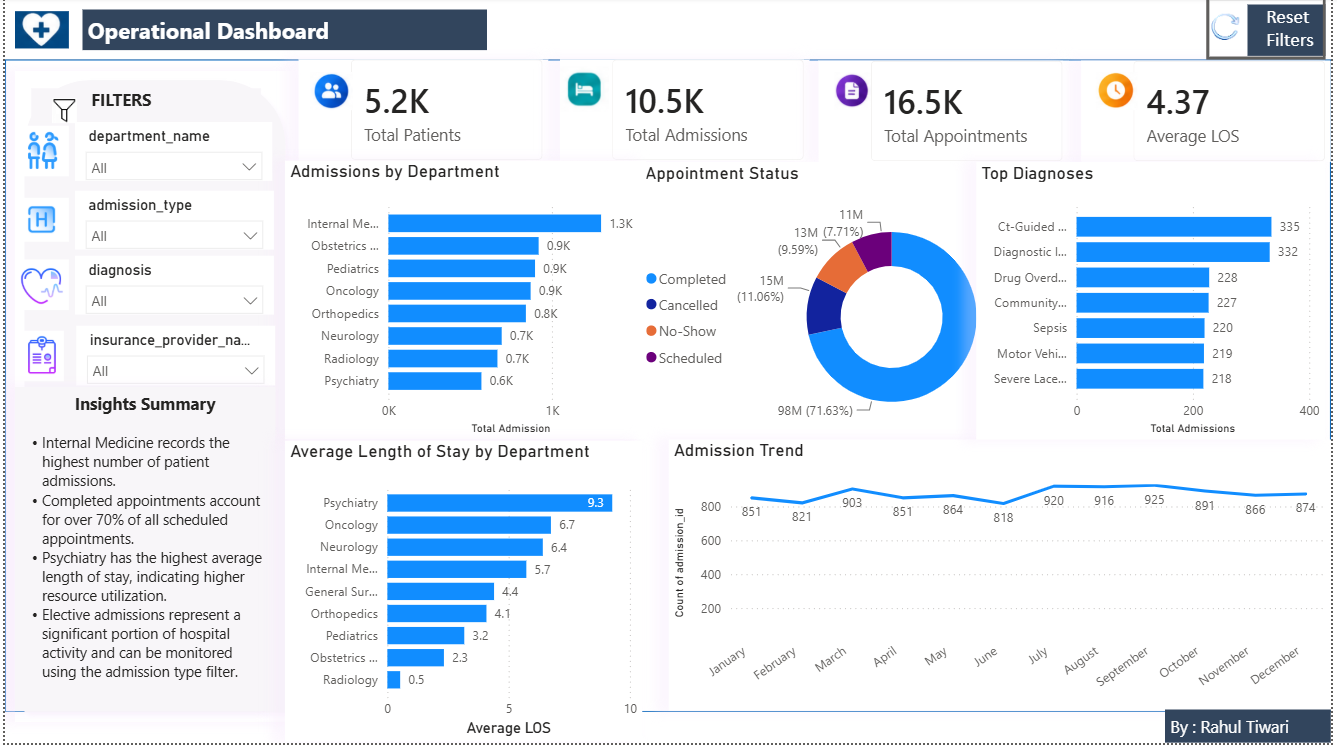

This screenshot's page, from the dashboard's own definition file:
{"tool":"powerbi","page":{"name":"Operational","canvas":[1280,720],"ordinal":0},"visuals":[{"type":"shape","box":[0,60.7,1279.8,629.8],"z":0},{"type":"cardVisual","fields":{"Data":["Sum(mart vw_hospital_overview.total_patients)"]},"box":[283.3,60.7,240.5,97.6],"z":1000},{"type":"cardVisual","fields":{"Data":["Sum(mart vw_hospital_overview.total_admissions)"]},"box":[535.7,60.7,240.5,97.6],"z":2000},{"type":"cardVisual","fields":{"Data":["Sum(mart vw_hospital_overview.total_appointments)"]},"box":[785.7,61.9,240.5,97.6],"z":3000},{"type":"donutChart","title":"Appointment Status","fields":{"Category":["mart fact_appointments.status"],"Y":["Sum(mart fact_appointments.appointment_id)"]},"box":[612.9,159.3,398.1,269],"z":3500},{"type":"cardVisual","fields":{"Data":["mart vw_hospital_overview.Average LOS"]},"box":[1039.3,61.9,240.5,97.6],"z":4000},{"type":"lineChart","title":"Admission Trend","fields":{"Category":["mart fact_admissions.admission_date.Variation.Date Hierarchy.Month"],"Y":["CountNonNull(mart fact_admissions.admission_id)"]},"box":[640.6,427.1,639.4,261.8],"z":5000},{"type":"shape","box":[10,70.7,270.2,628.6],"z":8000},{"type":"clusteredBarChart","title":"Admissions by Department","fields":{"Category":["mart dim_departments.department_name"],"Y":["CountNonNull(mart fact_admissions.admission_id)"]},"box":[270.2,158,348.7,269],"z":8500},{"type":"textbox","box":[25,88.1,221.4,32.1],"z":9000},{"type":"slicer","fields":{"Values":["mart fact_admissions.admission_type"]},"box":[67.9,186.9,191.7,57.1],"z":10000},{"type":"slicer","fields":{"Values":["mart dim_departments.department_name"]},"box":[67.9,120.2,190.5,57.1],"z":11000},{"type":"slicer","fields":{"Values":["mart vw_admission_analysis.diagnosis"]},"box":[67.9,250,191.7,57.1],"z":12000},{"type":"slicer","fields":{"Values":["mart vw_insurance_summary.insurance_provider_name"]},"box":[68.8,317.3,191.8,57.9],"z":13000},{"type":"image","box":[9.5,123.8,52.4,48.8],"z":14000},{"type":"image","box":[9.5,190.5,52.4,48.8],"z":15000},{"type":"image","box":[9.5,253.6,52.4,48.8],"z":16000},{"type":"image","box":[9.5,322.6,52.4,48.8],"z":17000},{"type":"image","box":[35,98.1,45.2,23.8],"z":18000},{"type":"image","box":[9.5,11.9,52.4,48.8],"z":19000},{"type":"textbox","box":[75,11.9,390.5,39.3],"z":20000},{"type":"actionButton","title":"Reset Filters","box":[1199.7,6.7,75.2,49.7],"z":21000},{"type":"image","box":[1159,0,36.2,57],"z":22000},{"type":"textbox","box":[1120,688,160,32],"z":23000},{"type":"actionButton","box":[1159.4,0,115.5,60.5],"z":24000},{"type":"image","box":[291.7,72.6,46.4,36.9],"z":25000},{"type":"image","box":[1050,72.6,46.4,36.9],"z":26000},{"type":"image","box":[795.2,72.6,46.4,36.9],"z":27000},{"type":"textbox","box":[9.5,376.2,251.2,313.1],"z":29000},{"type":"clusteredBarChart","title":"Average Length of Stay by Department","fields":{"Y":["mart vw_hospital_overview.Average LOS"],"Category":["mart dim_departments.department_name"]},"box":[270.2,428.3,345,290.8],"z":30000},{"type":"clusteredBarChart","title":"Top Diagnoses","fields":{"Category":["mart fact_admissions.diagnosis"],"Y":["CountNonNull(mart fact_admissions.admission_id)"]},"box":[937.4,159.3,336.6,267.8],"z":32500},{"type":"image","box":[535.7,66.4,47.1,44.6],"z":32501}]}

Visuals, with their boxes in screenshot pixels (x1, y1, x2, y2), scaled from the page's 1280x720 canvas onto the 1337x748 screenshot:
shape: (left=0, top=63, right=1336, bottom=717)
cardVisual - Sum(mart vw_hospital_overview.total_patients): (left=296, top=63, right=547, bottom=164)
cardVisual - Sum(mart vw_hospital_overview.total_admissions): (left=560, top=63, right=811, bottom=164)
cardVisual - Sum(mart vw_hospital_overview.total_appointments): (left=821, top=64, right=1072, bottom=166)
"Appointment Status" donutChart: (left=640, top=165, right=1056, bottom=445)
cardVisual - mart vw_hospital_overview.Average LOS: (left=1086, top=64, right=1336, bottom=166)
"Admission Trend" lineChart: (left=669, top=444, right=1336, bottom=716)
shape: (left=10, top=73, right=293, bottom=726)
"Admissions by Department" clusteredBarChart: (left=282, top=164, right=646, bottom=444)
textbox: (left=26, top=92, right=257, bottom=125)
slicer - mart fact_admissions.admission_type: (left=71, top=194, right=271, bottom=253)
slicer - mart dim_departments.department_name: (left=71, top=125, right=270, bottom=184)
slicer - mart vw_admission_analysis.diagnosis: (left=71, top=260, right=271, bottom=319)
slicer - mart vw_insurance_summary.insurance_provider_name: (left=72, top=330, right=272, bottom=390)
image: (left=10, top=129, right=65, bottom=179)
image: (left=10, top=198, right=65, bottom=249)
image: (left=10, top=263, right=65, bottom=314)
image: (left=10, top=335, right=65, bottom=386)
image: (left=37, top=102, right=84, bottom=127)
image: (left=10, top=12, right=65, bottom=63)
textbox: (left=78, top=12, right=486, bottom=53)
"Reset Filters" actionButton: (left=1253, top=7, right=1332, bottom=59)
image: (left=1211, top=0, right=1248, bottom=59)
textbox: (left=1170, top=715, right=1336, bottom=747)
actionButton: (left=1211, top=0, right=1332, bottom=63)
image: (left=305, top=75, right=353, bottom=114)
image: (left=1097, top=75, right=1145, bottom=114)
image: (left=831, top=75, right=879, bottom=114)
textbox: (left=10, top=391, right=272, bottom=716)
"Average Length of Stay by Department" clusteredBarChart: (left=282, top=445, right=643, bottom=747)
"Top Diagnoses" clusteredBarChart: (left=979, top=165, right=1331, bottom=444)
image: (left=560, top=69, right=609, bottom=115)
